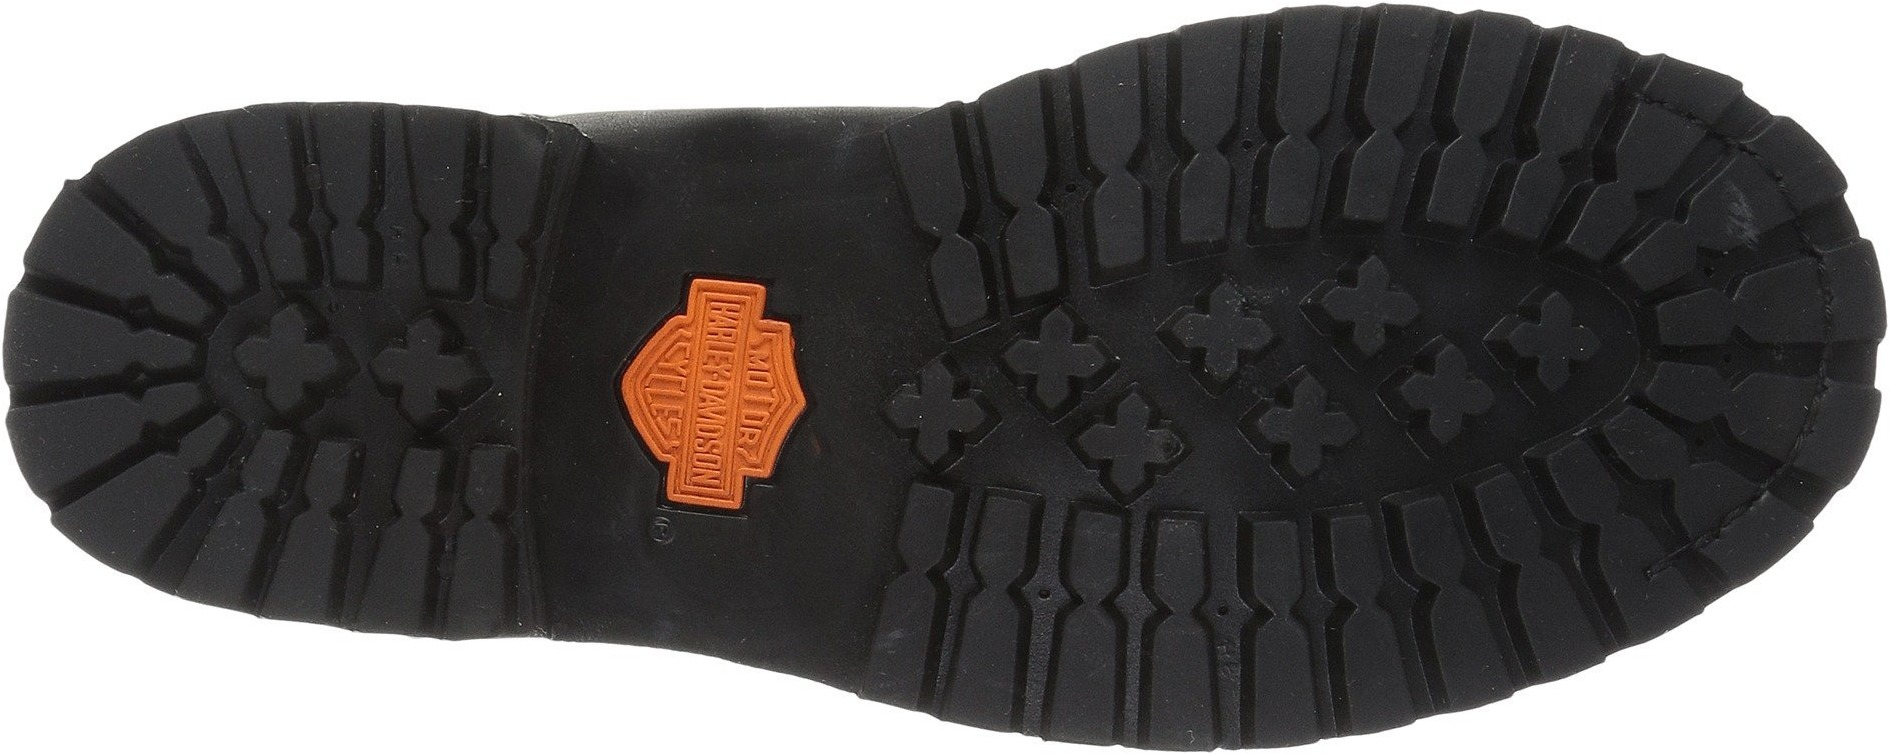bowtie: (1041, 496, 1326, 741), (1078, 26, 1342, 284), (1607, 232, 1865, 481), (14, 248, 242, 469), (284, 434, 513, 640), (324, 104, 547, 308), (1437, 472, 1655, 650)
other: (777, 190, 925, 325)
star: (357, 301, 497, 442), (225, 290, 360, 428)
text: (630, 318, 793, 475)
